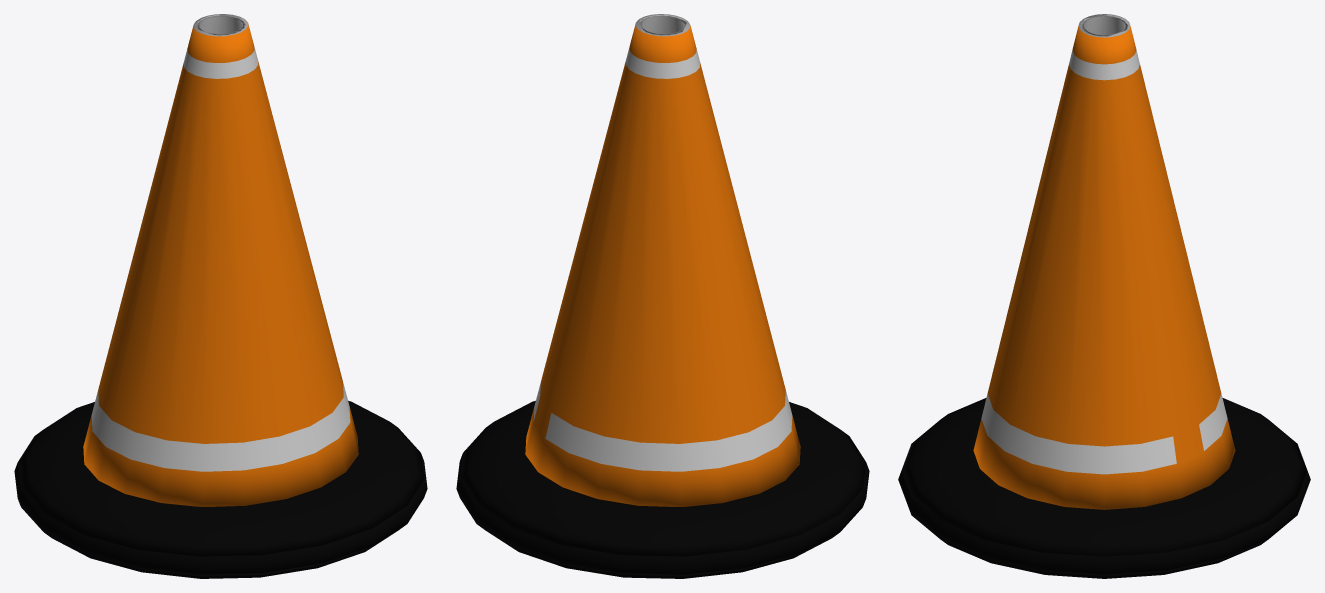
The model's file is Traffic_Cone.fbx.
The picture shows the model from 3 angles, left to right: view 1: azimuth 30°, elevation 25°; view 2: azimuth 150°, elevation 25°; view 3: azimuth 270°, elevation 25°; orthographic projection.
Visible parts, largest first — view 1: pCone4, pTorus1, pTorus2; view 2: pCone4, pTorus1, pTorus2; view 3: pCone4, pTorus1, pTorus2.
Boxes of the visible parts, <box> form: pCone4: <box>83,14,358,506</box>; pTorus1: <box>18,400,423,578</box>; pTorus2: <box>14,453,427,574</box>; pCone4: <box>525,14,800,506</box>; pTorus1: <box>460,400,865,578</box>; pTorus2: <box>456,453,869,574</box>; pCone4: <box>973,14,1235,509</box>; pTorus1: <box>901,398,1307,578</box>; pTorus2: <box>898,470,1310,574</box>.
Size of the model in its own units: 1.4 by 1.79 by 1.39.
